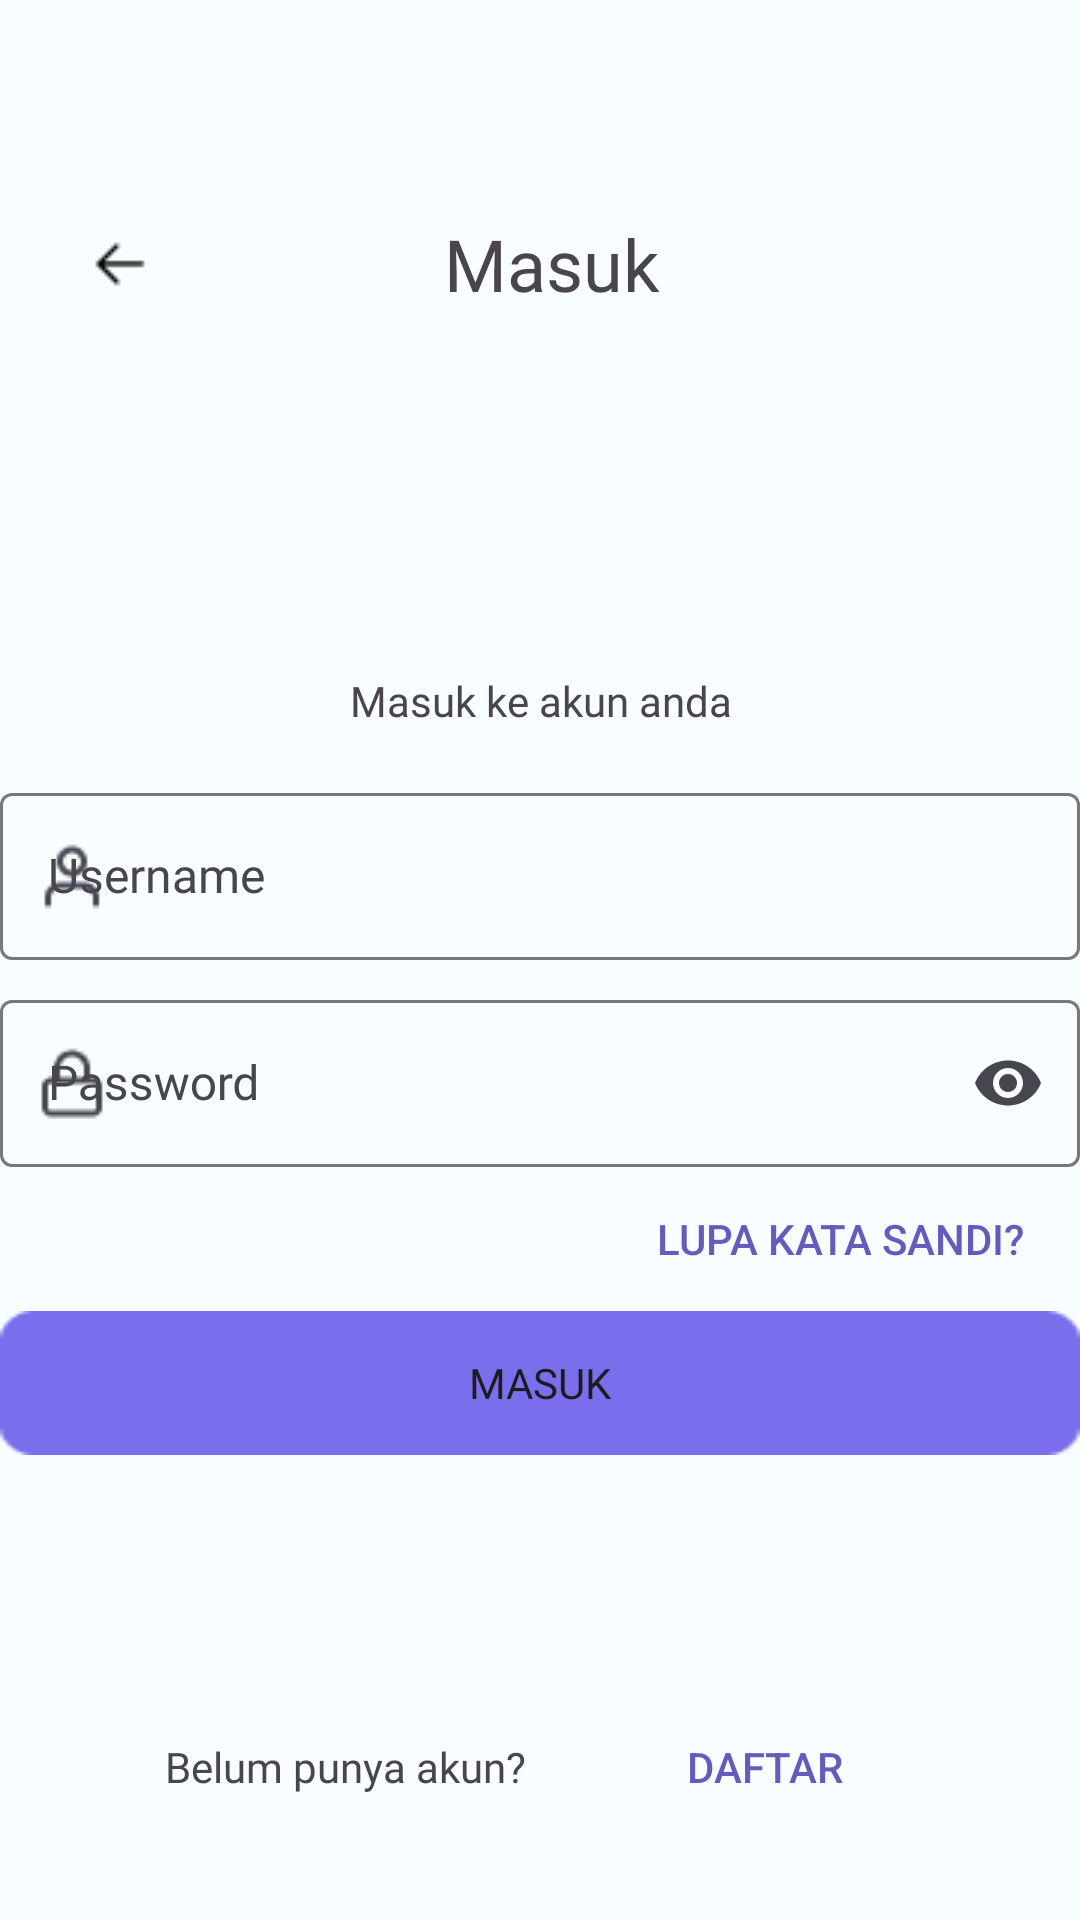

Point at icon controls on the screen. Image size 1080px×1920px, points as (x,y).
left arrow: (120,264)
